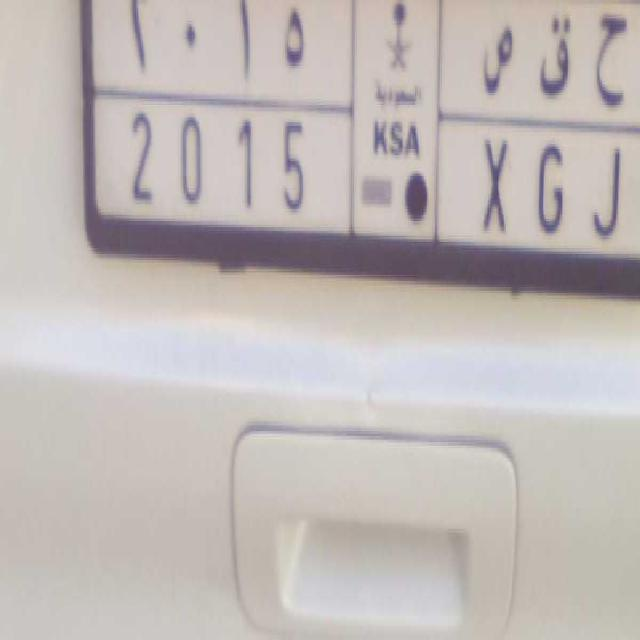license_plate: (108, 97, 638, 270)
